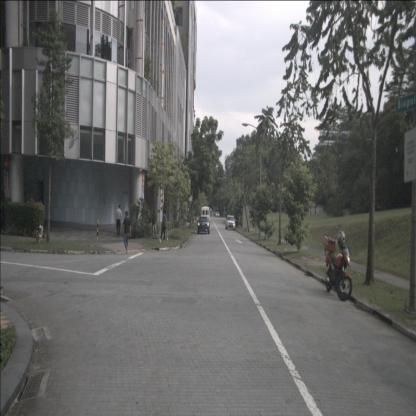human-pedestrian-adult: (121, 211, 132, 254), (151, 208, 158, 240), (115, 204, 122, 236), (160, 210, 166, 240)
vehicle-bicycle: (36, 218, 46, 244)
vehicle-car: (197, 217, 210, 234), (201, 206, 210, 227), (226, 215, 235, 230)
vehicle-motorcycle: (323, 230, 353, 301)
